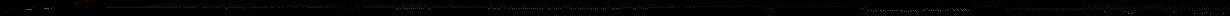Blue cone: (73, 2, 79, 4), (13, 9, 21, 10), (32, 7, 38, 8)
Yellow cone: (668, 5, 677, 7)
